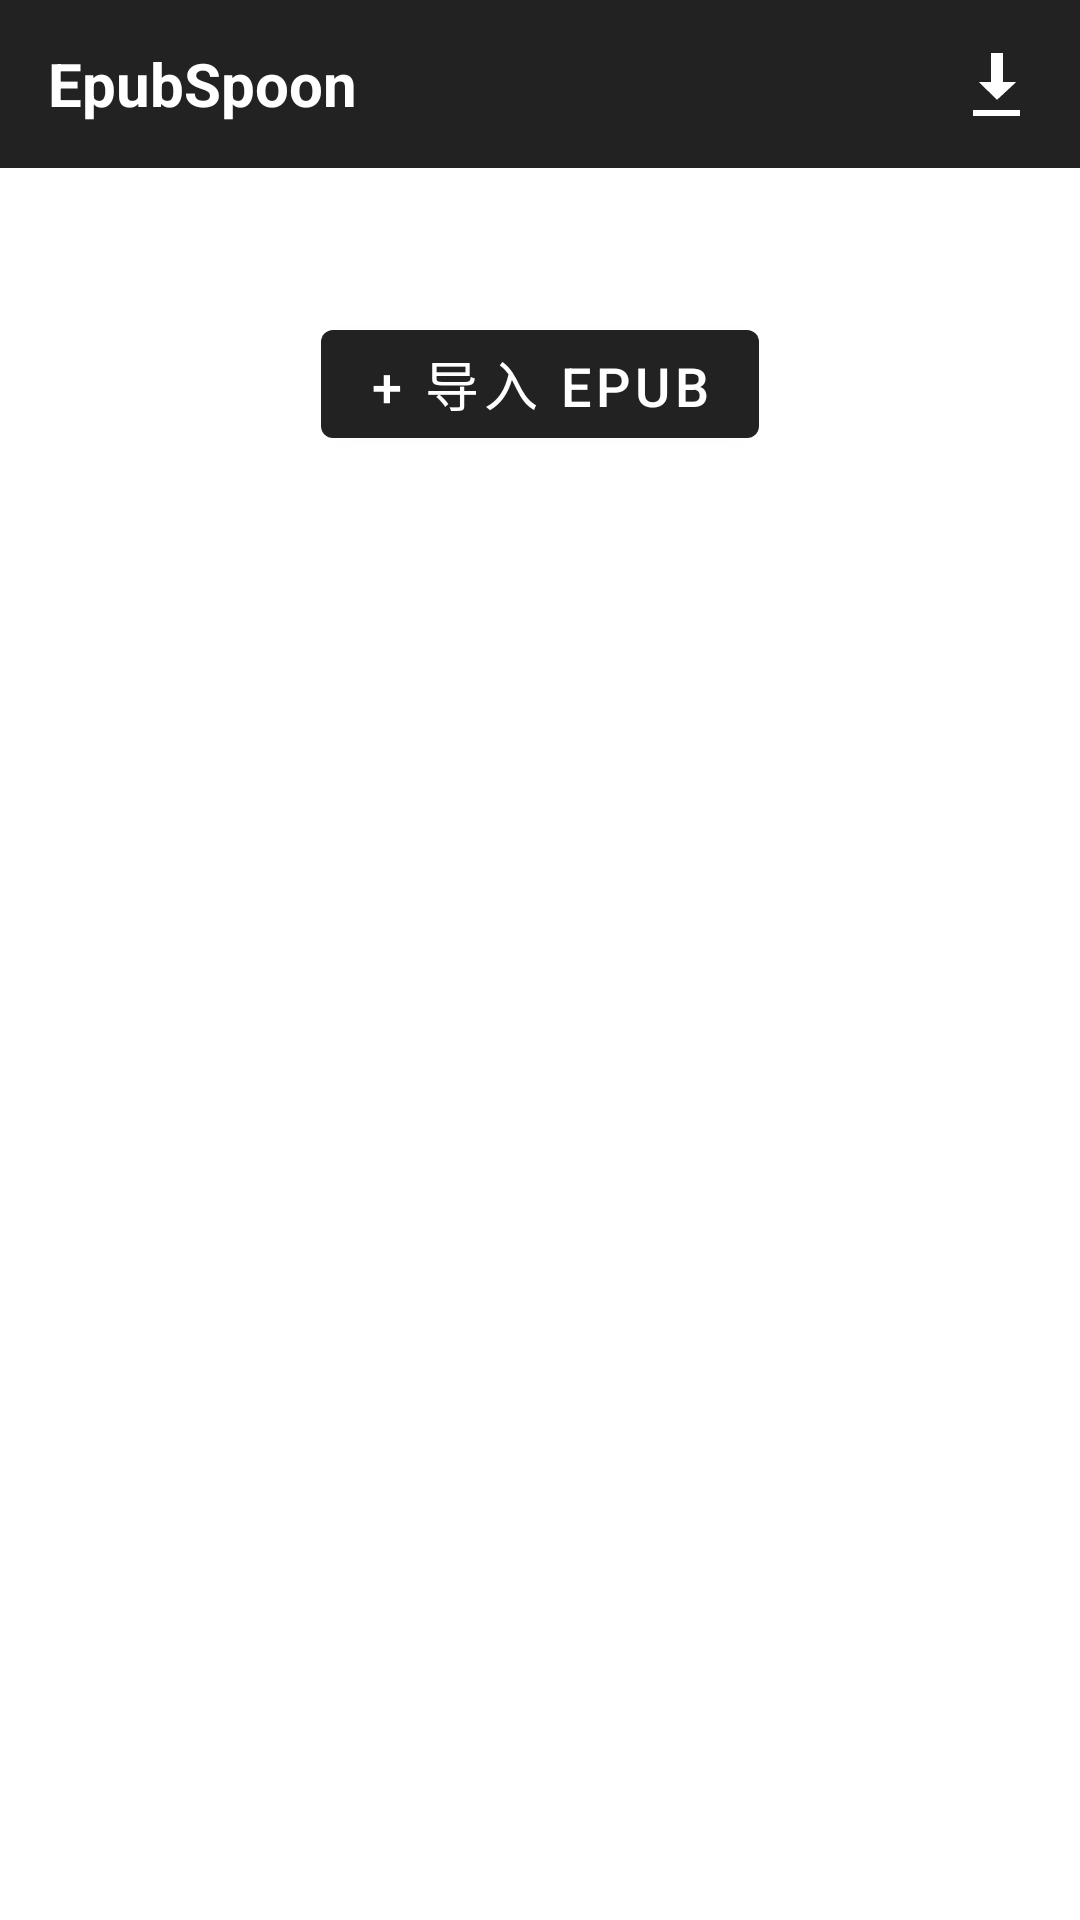

Icons on this 1080×1920 Android screen, each with its box as (x1, y1, x2, y2):
检查更新: (973, 53, 1020, 116)
